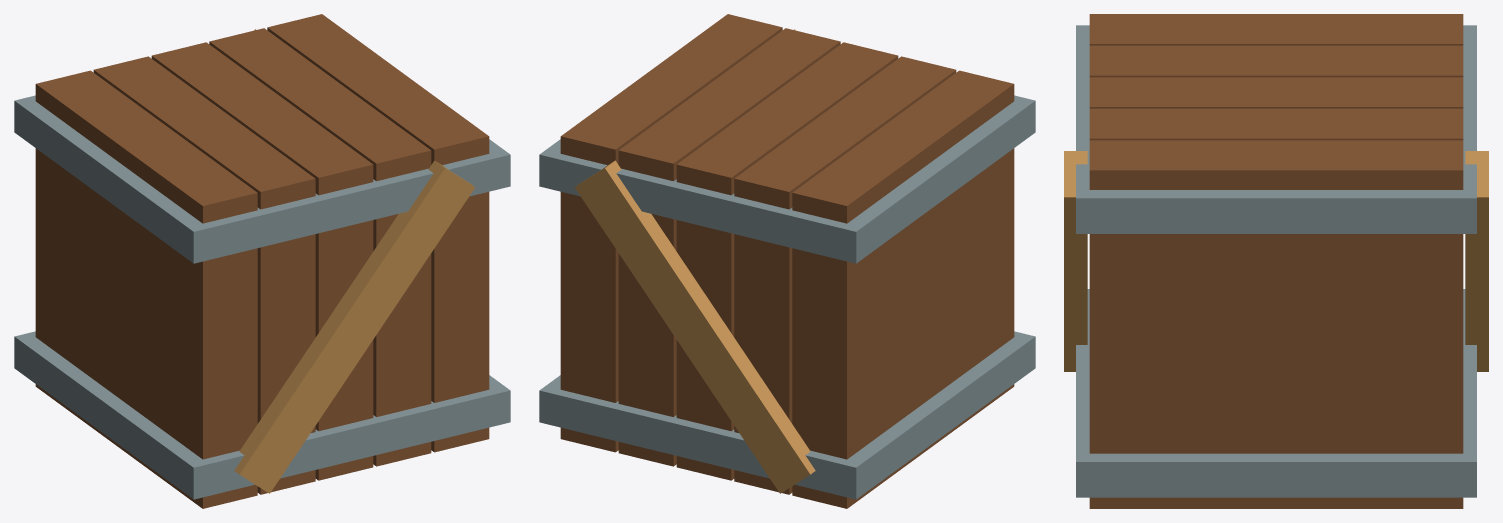
The model's file is crate.fbx.
3 renders of one model, left to right at view 1: azimuth 30°, elevation 25°; view 2: azimuth 150°, elevation 25°; view 3: azimuth 270°, elevation 25°, orthographic. The views are drawn at different scales.
Parts seen in each view (by area): view 1: OakPlank0.001, OakPlank4.001, OakPlank1.001, IronBand.003, IronBand.002, OakPlank3.001, OakPlank2.001, Brace.002; view 2: OakPlank0.001, OakPlank4.001, OakPlank1.001, IronBand.003, IronBand.002, OakPlank3.001, OakPlank2.001, Brace.003; view 3: OakPlank4.001, IronBand.003, IronBand.002, OakPlank1.001, OakPlank3.001, OakPlank0.001, OakPlank2.001, Brace.002, Brace.003.
Part boxes in pixels (box(x1,y1,x2,y2)): OakPlank0.001: box(35, 70, 257, 508); OakPlank4.001: box(267, 14, 489, 452); OakPlank1.001: box(93, 56, 315, 494); IronBand.003: box(14, 95, 510, 263); IronBand.002: box(14, 331, 510, 499); OakPlank3.001: box(209, 28, 431, 466); OakPlank2.001: box(151, 42, 373, 480); Brace.002: box(234, 160, 475, 493); OakPlank0.001: box(792, 70, 1014, 508); OakPlank4.001: box(560, 14, 782, 452); OakPlank1.001: box(734, 56, 956, 494); IronBand.003: box(539, 95, 1035, 263); IronBand.002: box(539, 331, 1035, 499); OakPlank3.001: box(618, 28, 840, 466); OakPlank2.001: box(676, 42, 898, 480); Brace.003: box(574, 160, 815, 493); OakPlank4.001: box(1089, 140, 1463, 508); IronBand.003: box(1076, 25, 1476, 233); IronBand.002: box(1076, 289, 1476, 497); OakPlank1.001: box(1089, 45, 1463, 77); OakPlank3.001: box(1089, 108, 1463, 140); OakPlank0.001: box(1089, 14, 1463, 45); OakPlank2.001: box(1089, 77, 1463, 108); Brace.002: box(1064, 151, 1087, 371); Brace.003: box(1465, 151, 1488, 371).
Size of the model in its own units: 104 by 95 by 108.
